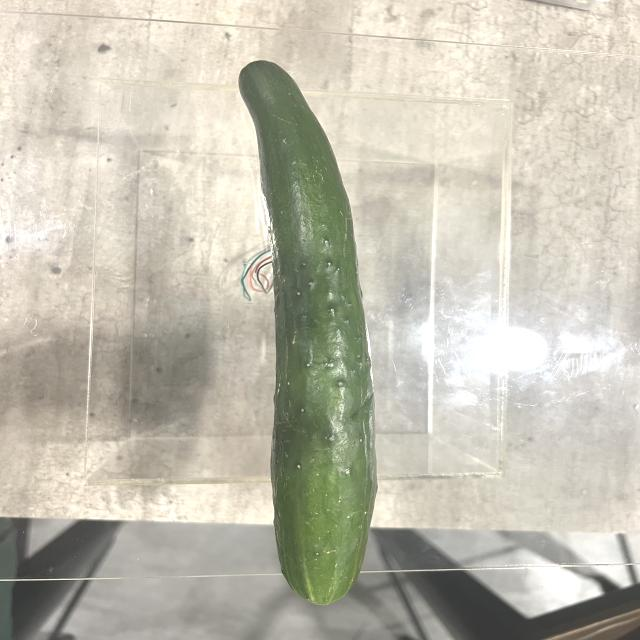cucumber: (240, 59, 376, 612)
